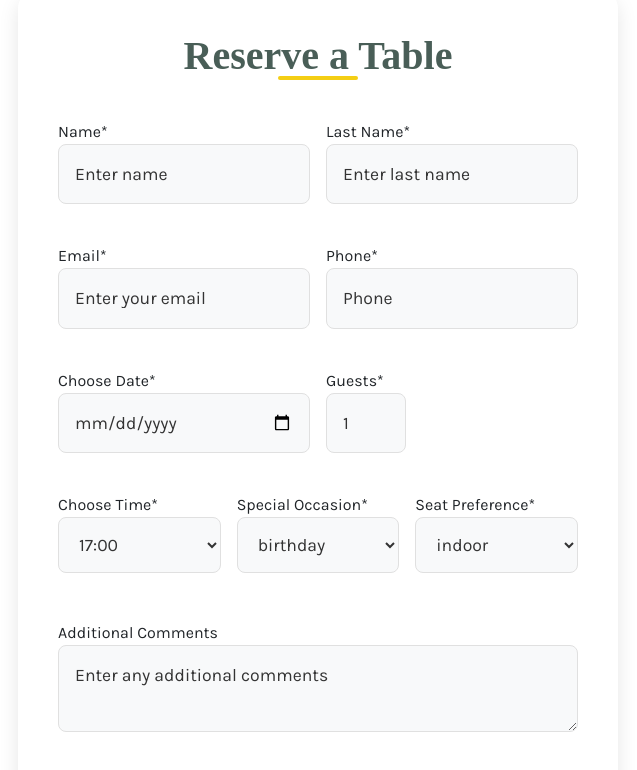
Test: validates date is not in the past
Enter past date
Step 1. Type "2020-01-01" into the date field labelled "Choose Date*" → (184, 423), box [58,393,310,453]
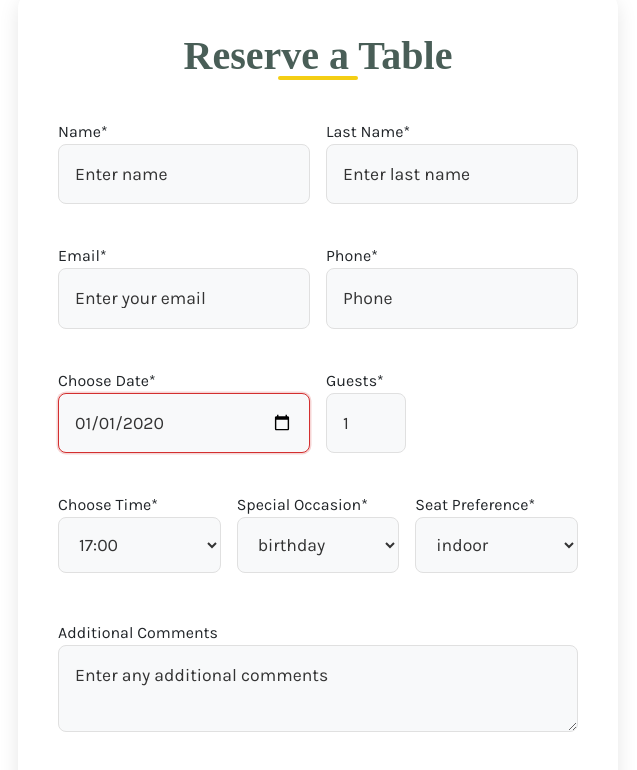
Step 2. Leave the date field labelled "Choose Date*", box [58,393,310,453]
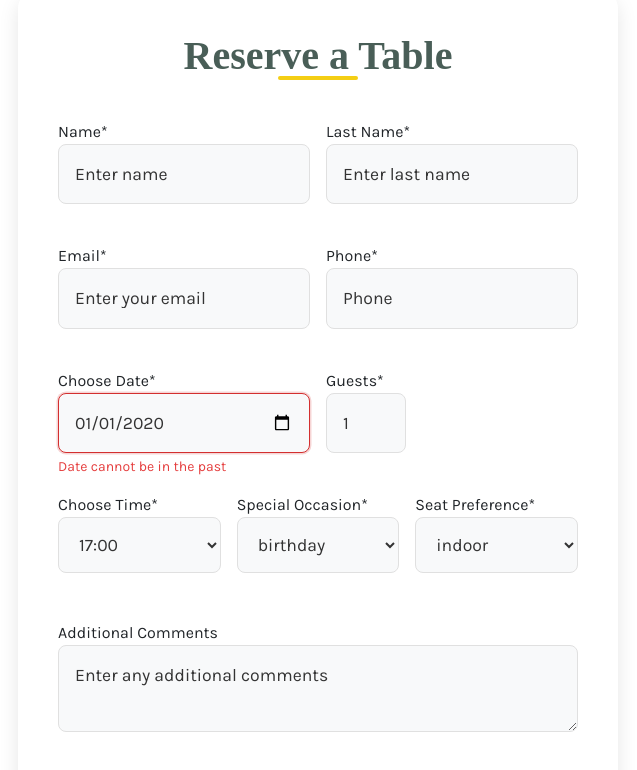
Expected: the text "Date cannot be in the past" is shown, [58,456,226,477]
